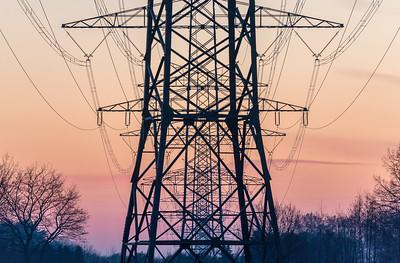power_tower: (71, 0, 329, 263)
